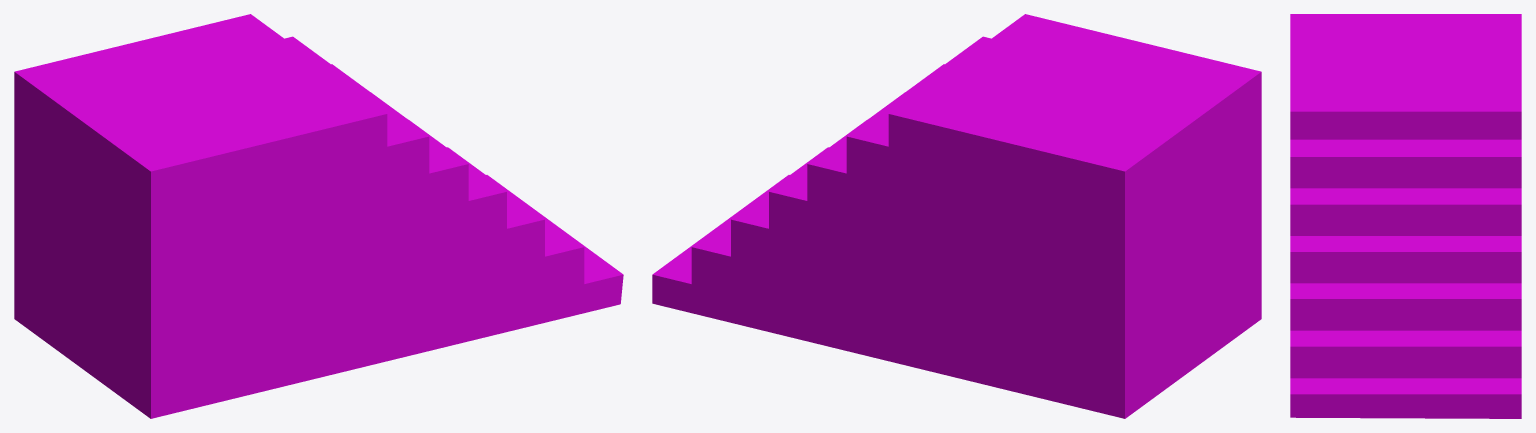
File: SM_Stairs_200_100.fbx
3 renders of one model, left to right at view 1: azimuth 30°, elevation 25°; view 2: azimuth 150°, elevation 25°; view 3: azimuth 270°, elevation 25°, orthographic. The views are drawn at different scales.
Visible parts, largest first — view 1: pasted__pCube47; view 2: pasted__pCube47; view 3: pasted__pCube47.
Part boxes in pixels (x1,y1,x2,y2): pasted__pCube47: (14, 14, 623, 418); pasted__pCube47: (652, 14, 1261, 418); pasted__pCube47: (1290, 14, 1521, 418).
Bounding box in the file's own units: 2 × 1 × 1.
